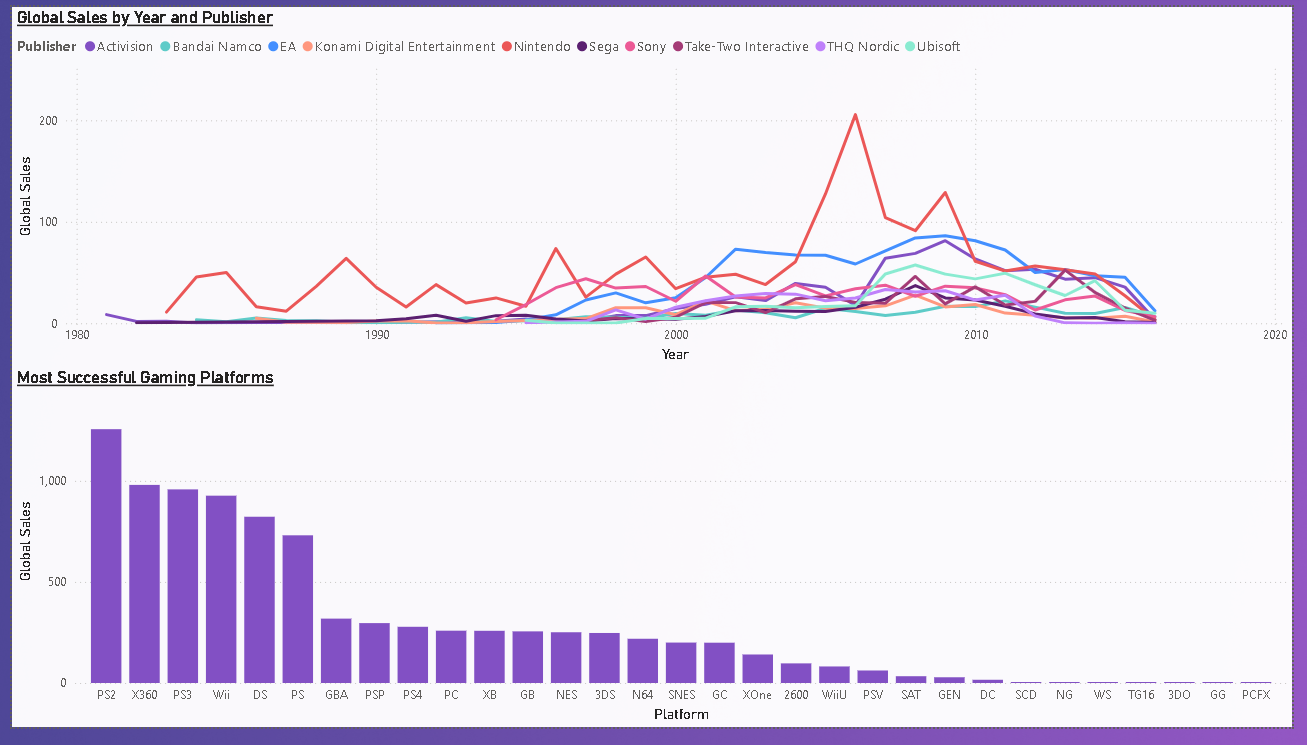

What the dashboard file says about the page in this screenshot:
{"tool":"powerbi","page":{"name":"Publisher Performance","canvas":[1280,720],"ordinal":1},"visuals":[{"type":"clusteredColumnChart","title":"Most Successful Gaming Platforms","fields":{"Y":["Sum(cleaned_vgsales.Global_Sales)"],"Category":["cleaned_vgsales.Platform"]},"box":[0,360,1280,360],"z":0},{"type":"lineChart","fields":{"Category":["cleaned_vgsales.Year"],"Y":["Sum(cleaned_vgsales.Global_Sales)"],"Series":["cleaned_vgsales.Publisher_clean"]},"box":[0,0,1280,360],"z":1}]}

Visuals, with their boxes in screenshot pixels (x1, y1, x2, y2), scaled from the page's 1280x720 canvas onto the 1307x745 screenshot:
"Most Successful Gaming Platforms" clusteredColumnChart: left=0, top=373, right=1306, bottom=744
lineChart - cleaned_vgsales.Year x Sum(cleaned_vgsales.Global_Sales): left=0, top=0, right=1306, bottom=373
